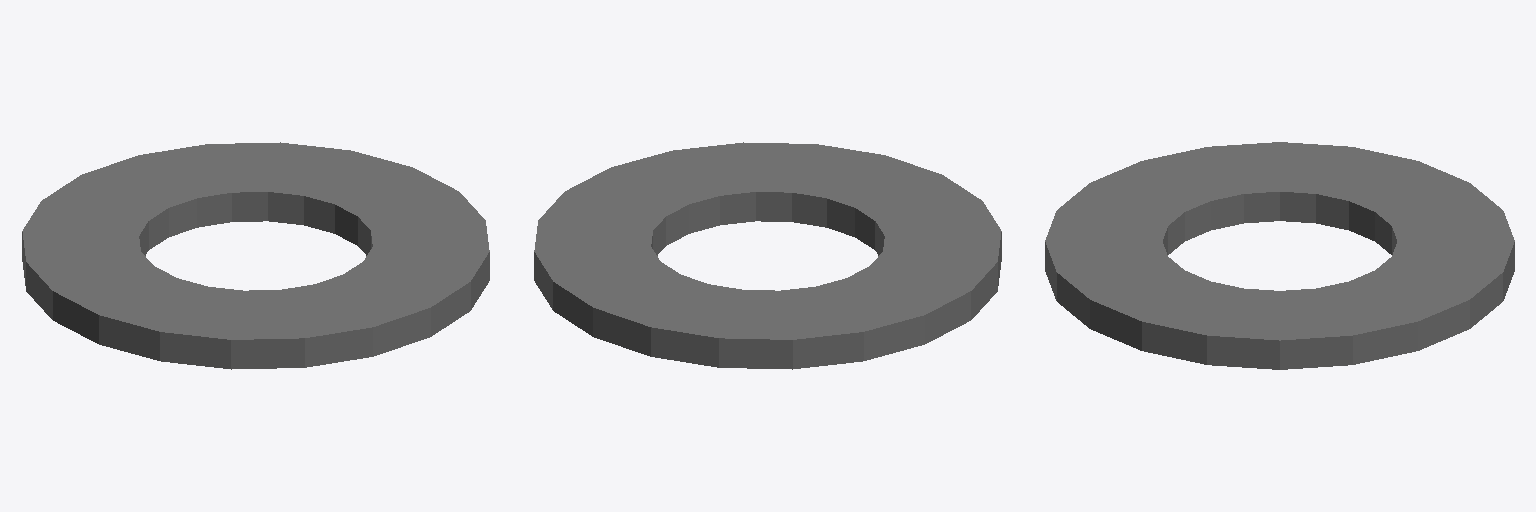
The model's file is marker.obj.
3 views of the same model, side by side, from view 1: azimuth 30°, elevation 25°; view 2: azimuth 150°, elevation 25°; view 3: azimuth 270°, elevation 25° (orthographic).
Parts seen in each view (by area): view 1: marker1:pPipe1; view 2: marker1:pPipe1; view 3: marker1:pPipe1.
Boxes of the visible parts, x1,y1,x2,y2 form: marker1:pPipe1: [22, 142, 489, 369]; marker1:pPipe1: [534, 142, 1001, 369]; marker1:pPipe1: [1045, 142, 1514, 369].
Bounding box in the file's own units: 0.3827 × 0.0265 × 0.3827.